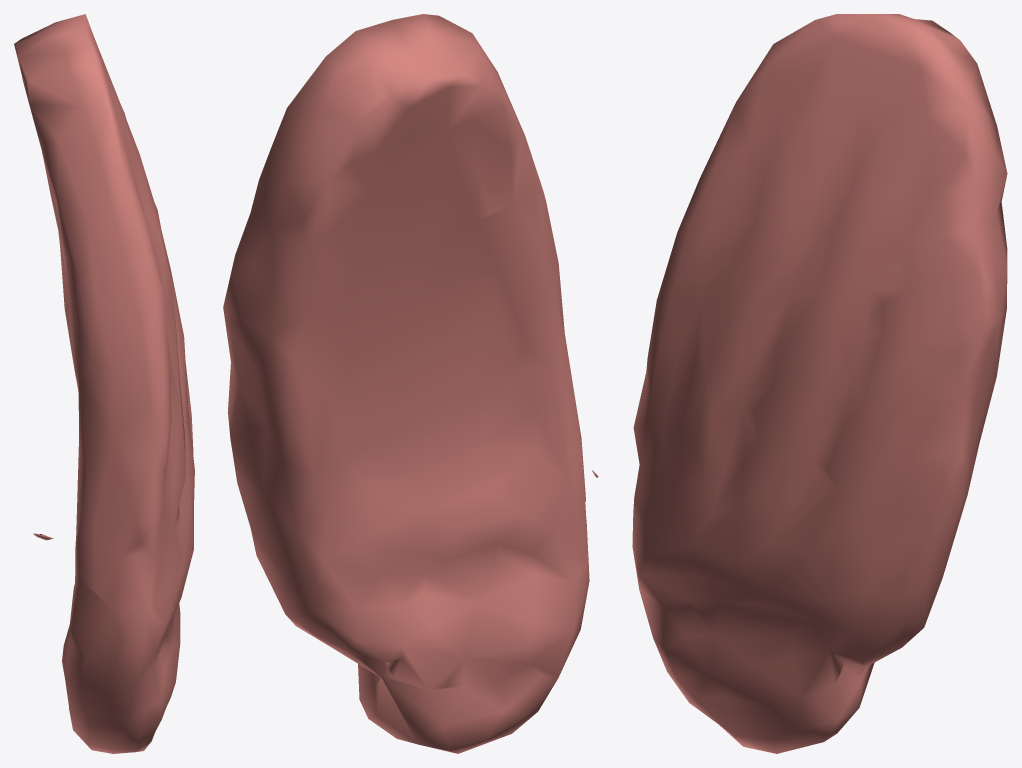
Rendered from fma48976_mm1289.glb.
3 views of the same model, side by side, from view 1: azimuth 30°, elevation 25°; view 2: azimuth 150°, elevation 25°; view 3: azimuth 270°, elevation 25° (orthographic). The views are drawn at different scales.
Visible parts, largest first — view 1: FMA48976_MM1289; view 2: FMA48976_MM1289; view 3: FMA48976_MM1289.
Part boxes in pixels (<box>): FMA48976_MM1289: <box>14,14,194,753</box>; FMA48976_MM1289: <box>223,14,598,753</box>; FMA48976_MM1289: <box>632,14,1007,753</box>.
Size of the model in its own units: 0.00356 by 0.00964 by 0.00447.
